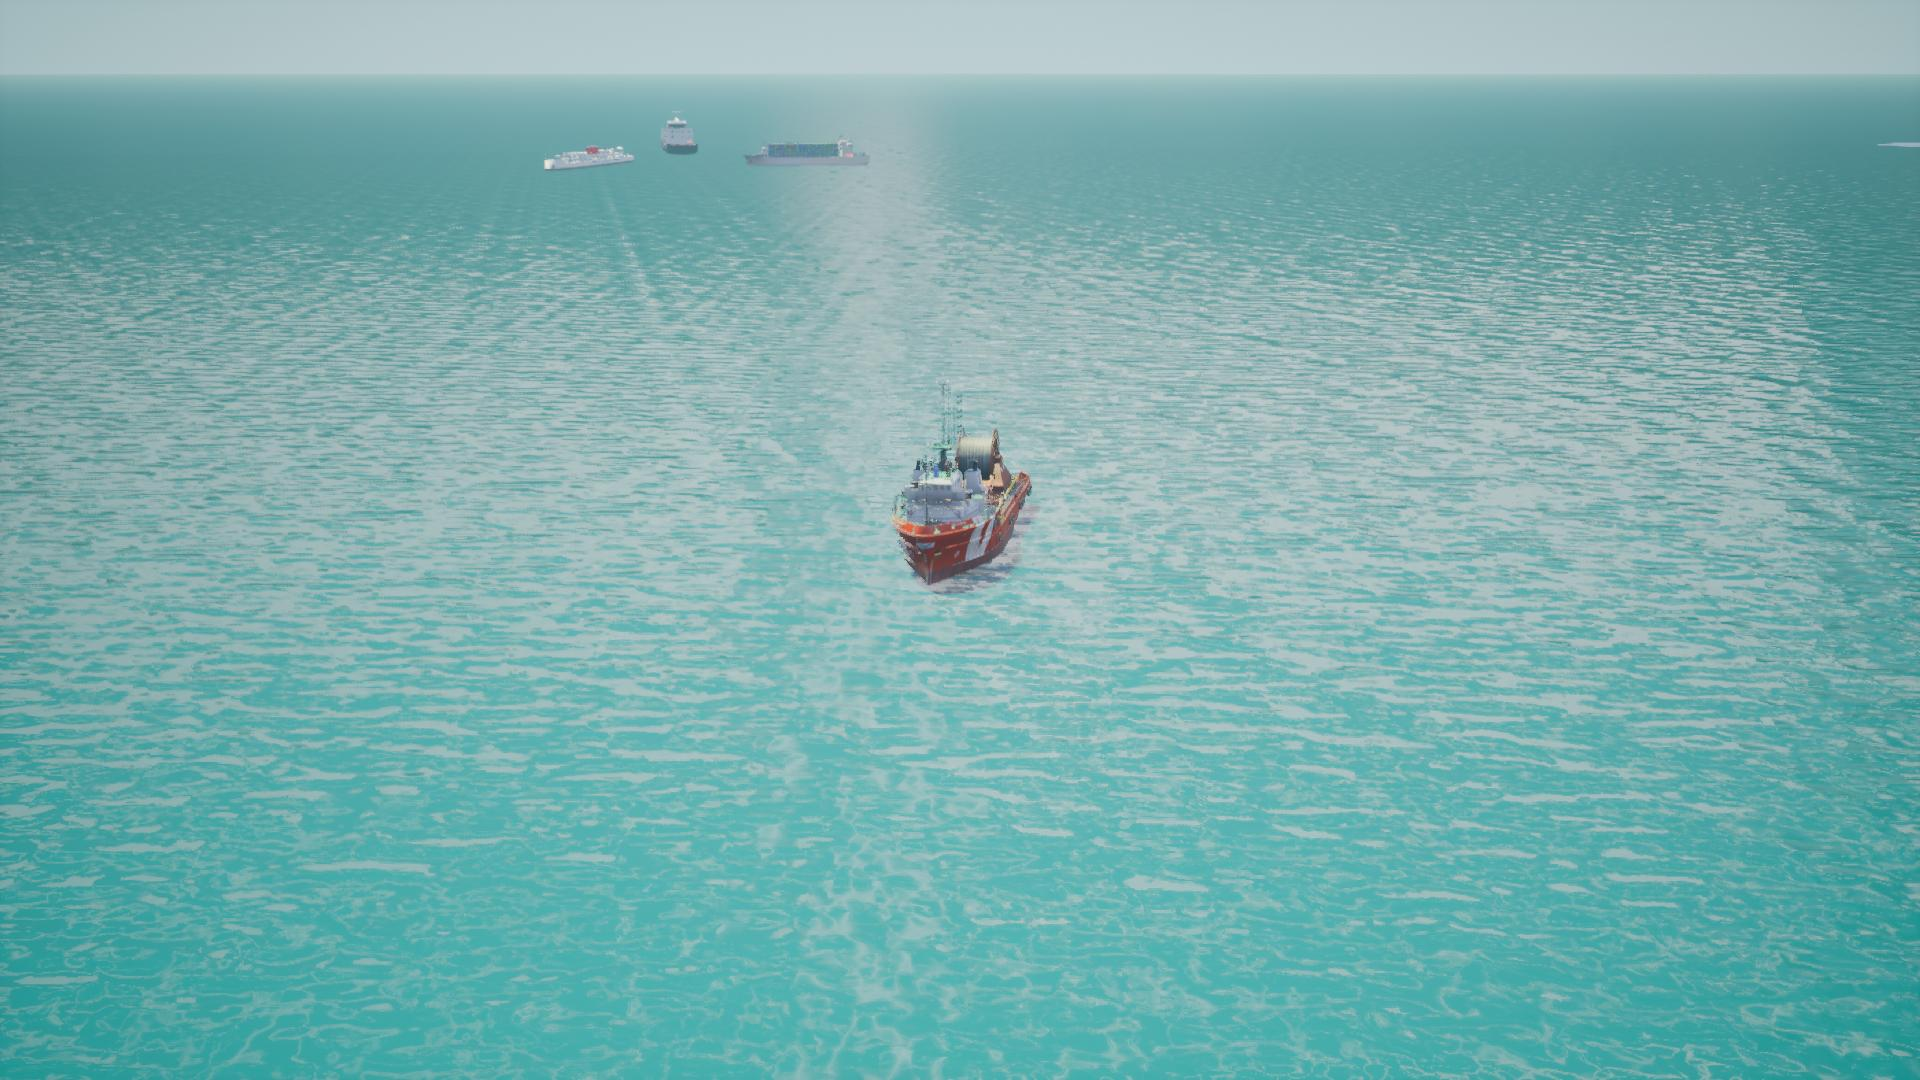Tug Boat: (889, 421, 1029, 588)
